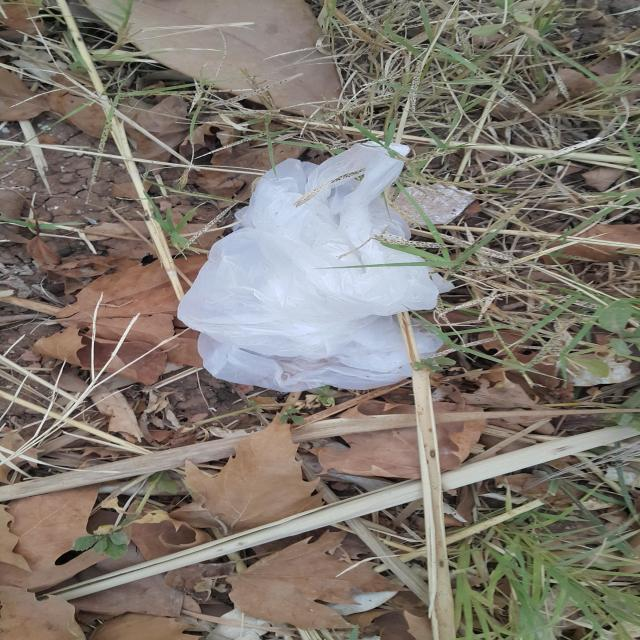litter: (244, 110, 640, 260)
